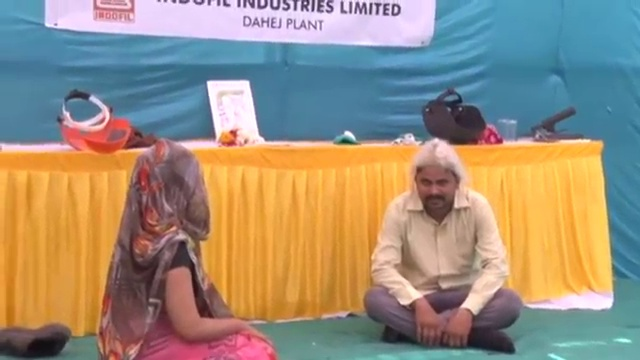helmet_off: (127, 143, 211, 243), (412, 143, 464, 213)
person: (93, 138, 278, 360), (363, 136, 525, 355)
